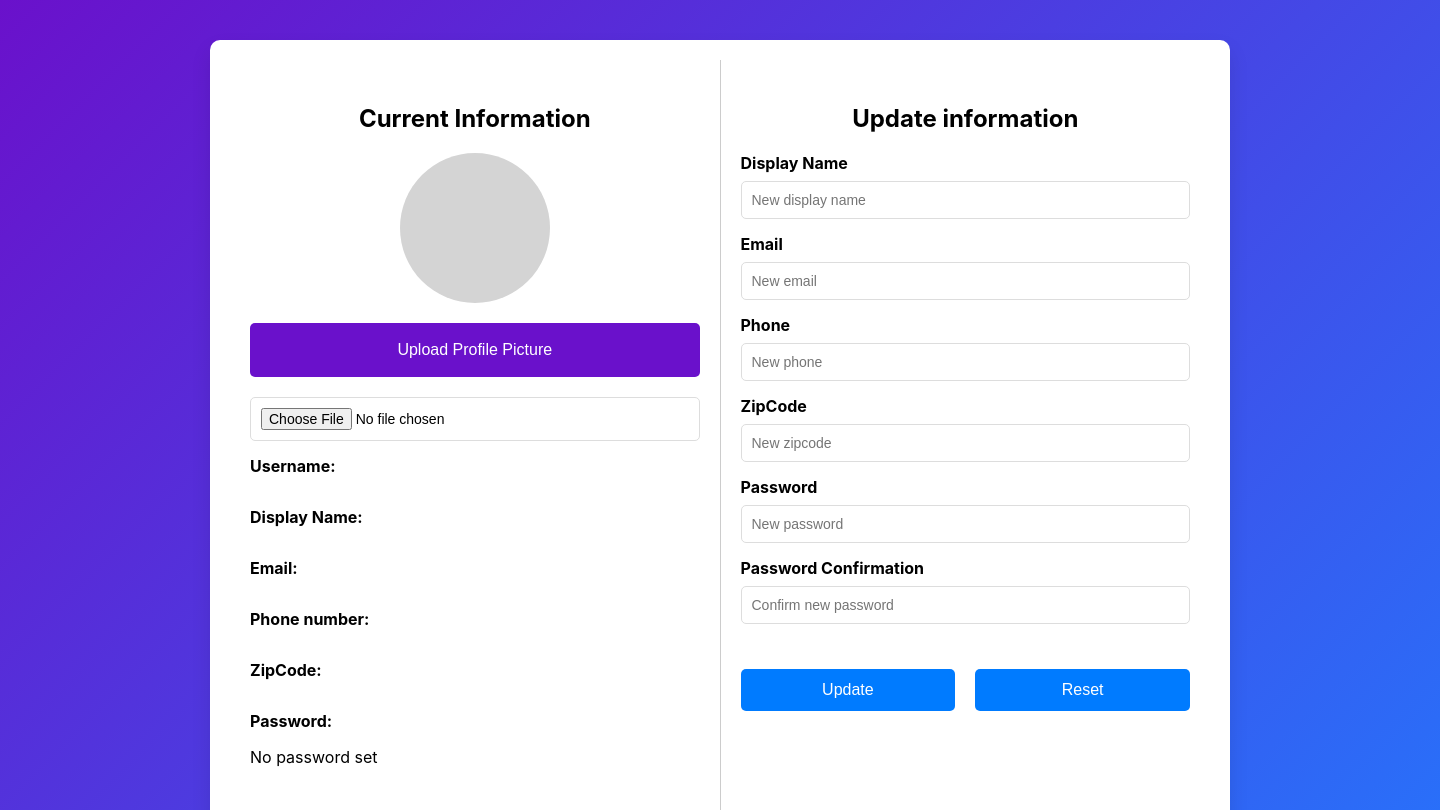
Test: Profile Page Tests › should show error for mismatched passwords
Type "newpassword" into the password field with placeholder "New password" at (965, 524), box [740,505,1190,543]
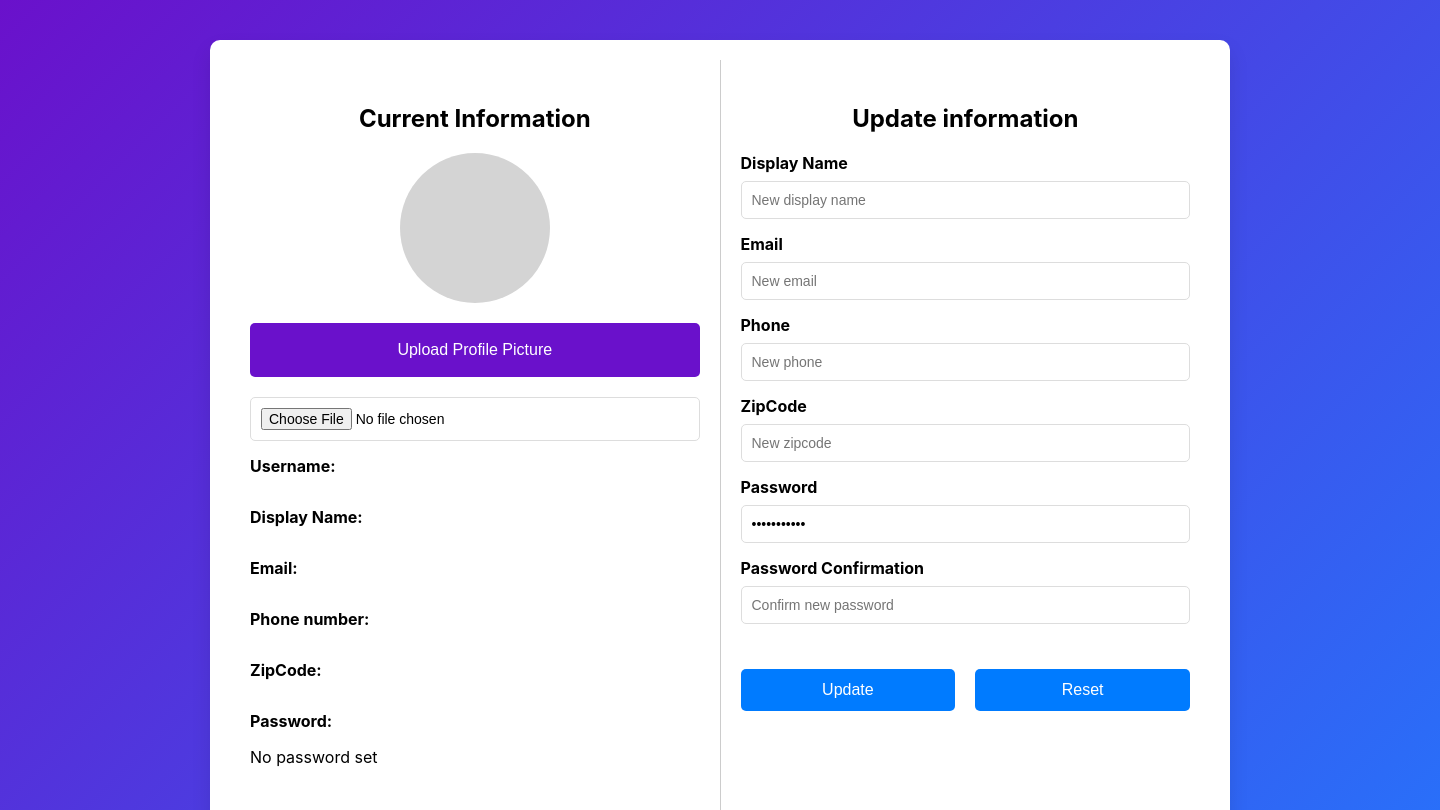
Type "differentpassword" into the password field with placeholder "Confirm new password" at (965, 605), box [740,586,1190,624]
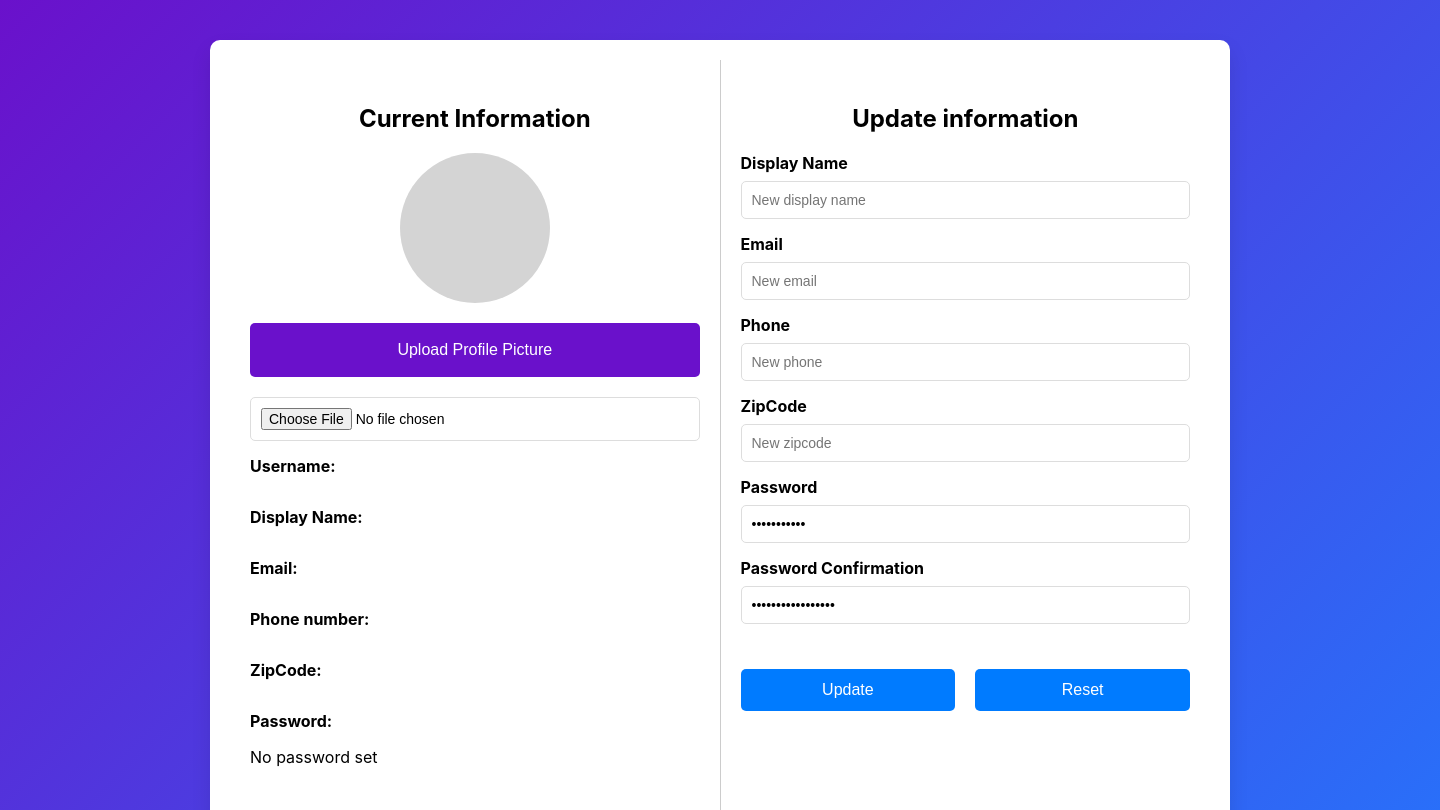
Click the button "Update" at (848, 690), box [740,669,955,711]
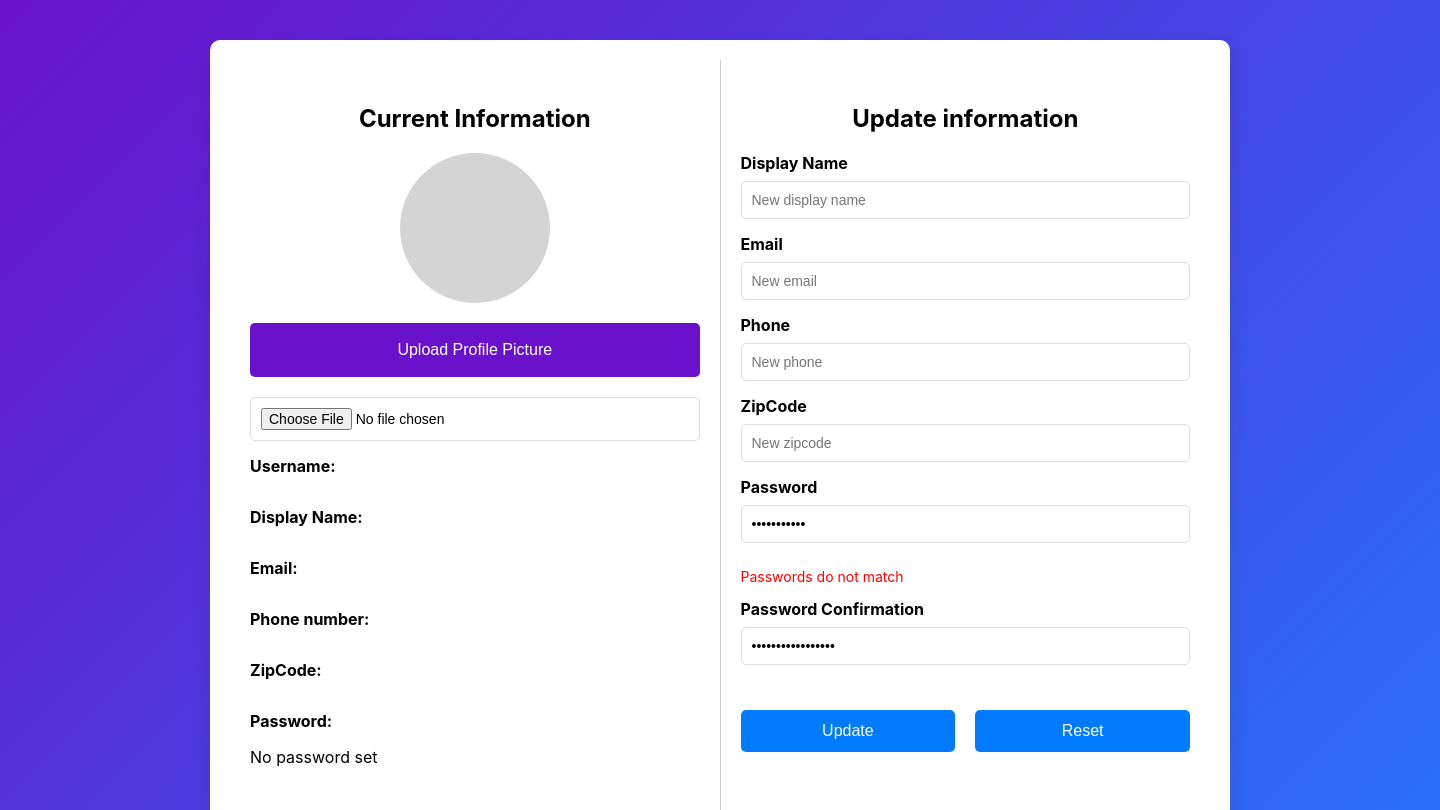
Expected: the text "Passwords do not match" is shown, [740,568,904,585]
